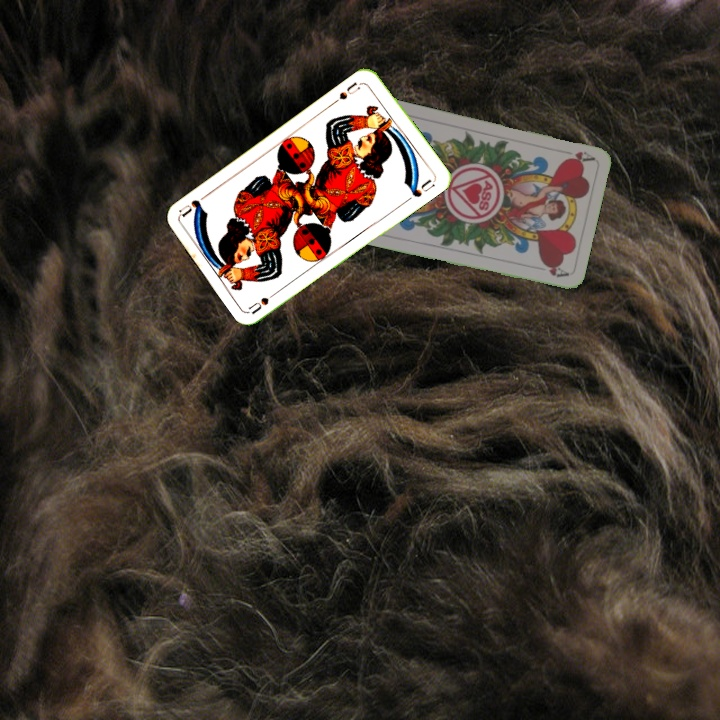HA: (561, 147, 596, 166)
SU: (245, 286, 283, 316), (330, 78, 365, 106)
